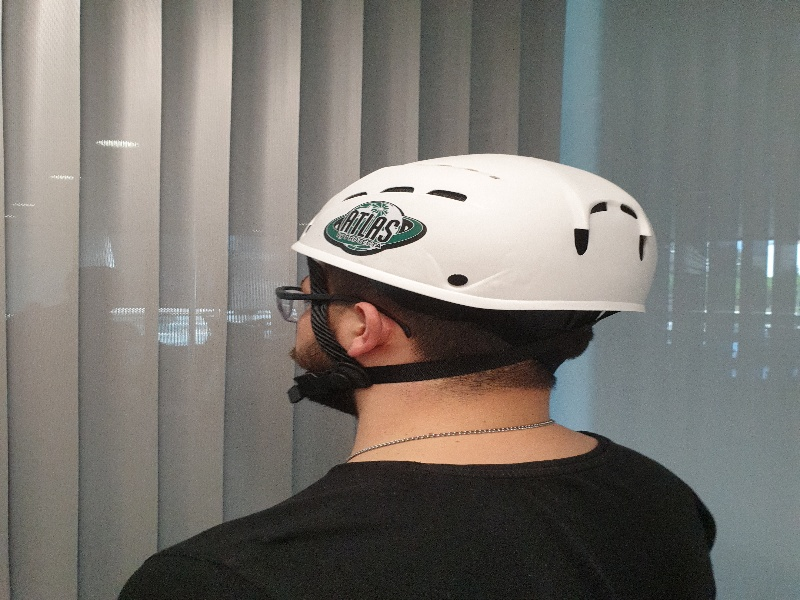Baret: (292, 152, 658, 319)
